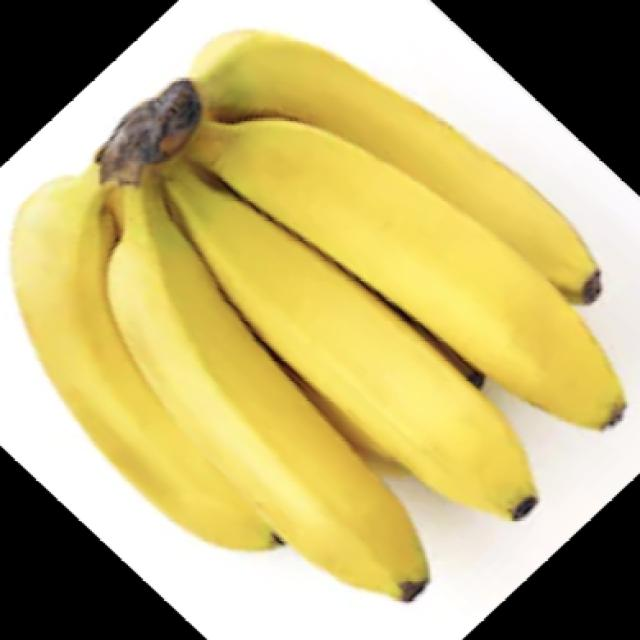god quality banana: (11, 31, 625, 601)
